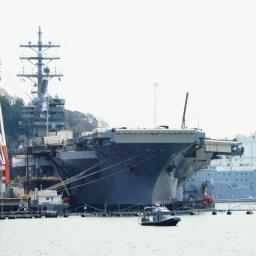Portanaves: (15, 23, 250, 208)
